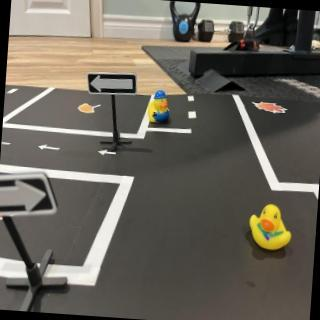duck_regular: (246, 201, 295, 255)
duck_specialty: (146, 89, 172, 127)
road_oneway: (38, 141, 63, 156), (96, 147, 120, 159)
sign_oneway_left: (87, 72, 138, 97)
sign_oneway_right: (1, 171, 61, 219)
